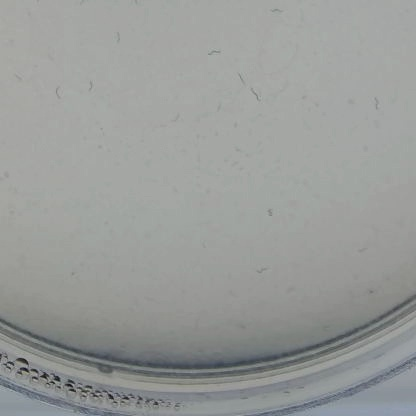worm: (201, 48, 225, 67), (261, 202, 280, 225), (355, 240, 377, 259), (264, 5, 286, 21), (52, 79, 65, 106), (166, 111, 188, 126), (229, 70, 252, 84), (369, 90, 381, 116), (9, 70, 27, 86), (248, 86, 263, 105), (253, 264, 274, 277), (109, 29, 123, 46), (84, 78, 95, 99), (71, 0, 96, 9), (216, 95, 229, 112)
